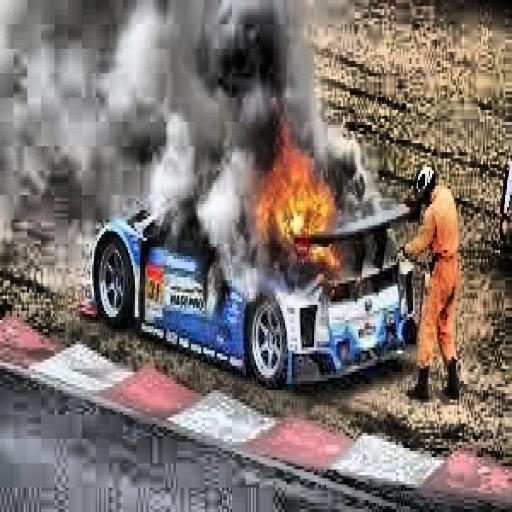fire: (239, 101, 345, 271)
